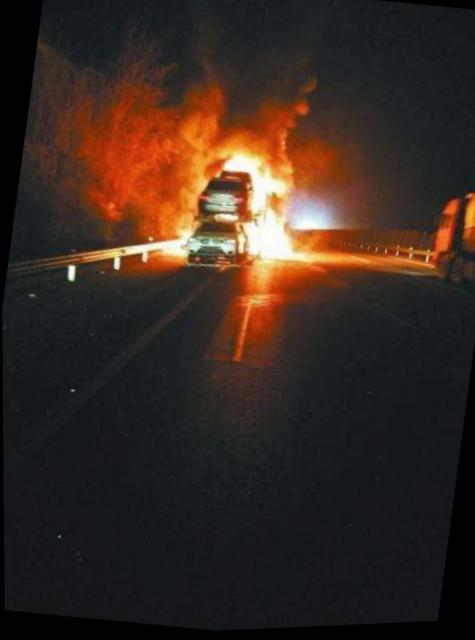fire: (173, 144, 306, 281)
